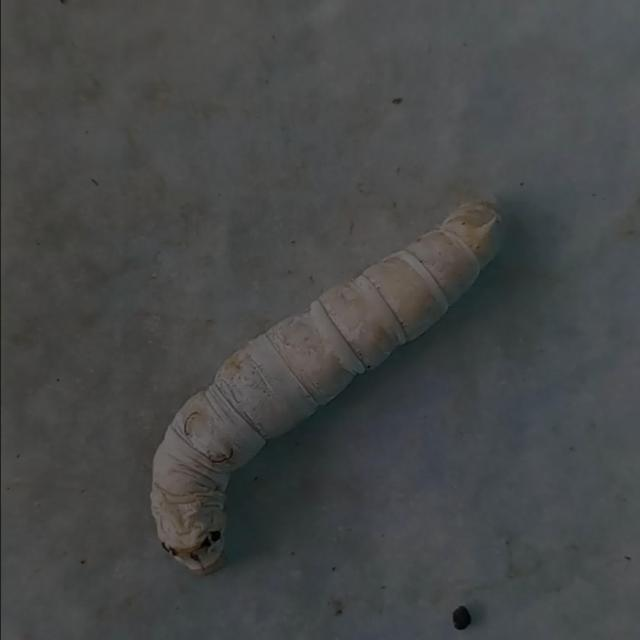Grasserie: (141, 188, 520, 579)
